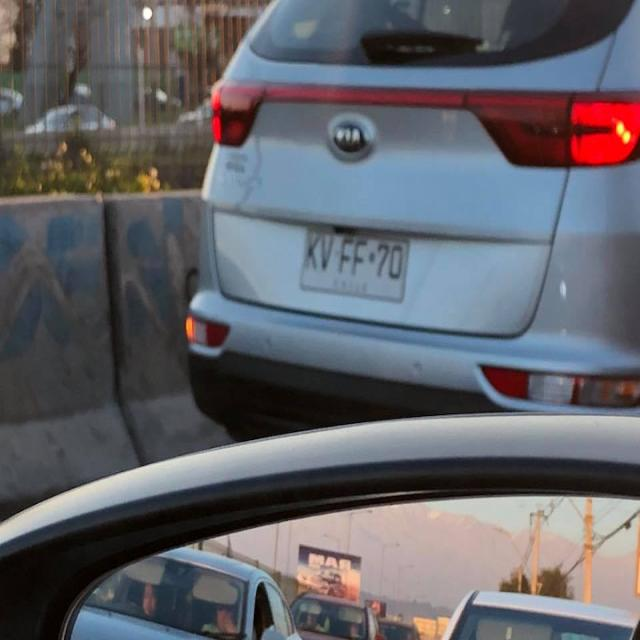patente: (298, 225, 410, 303)
